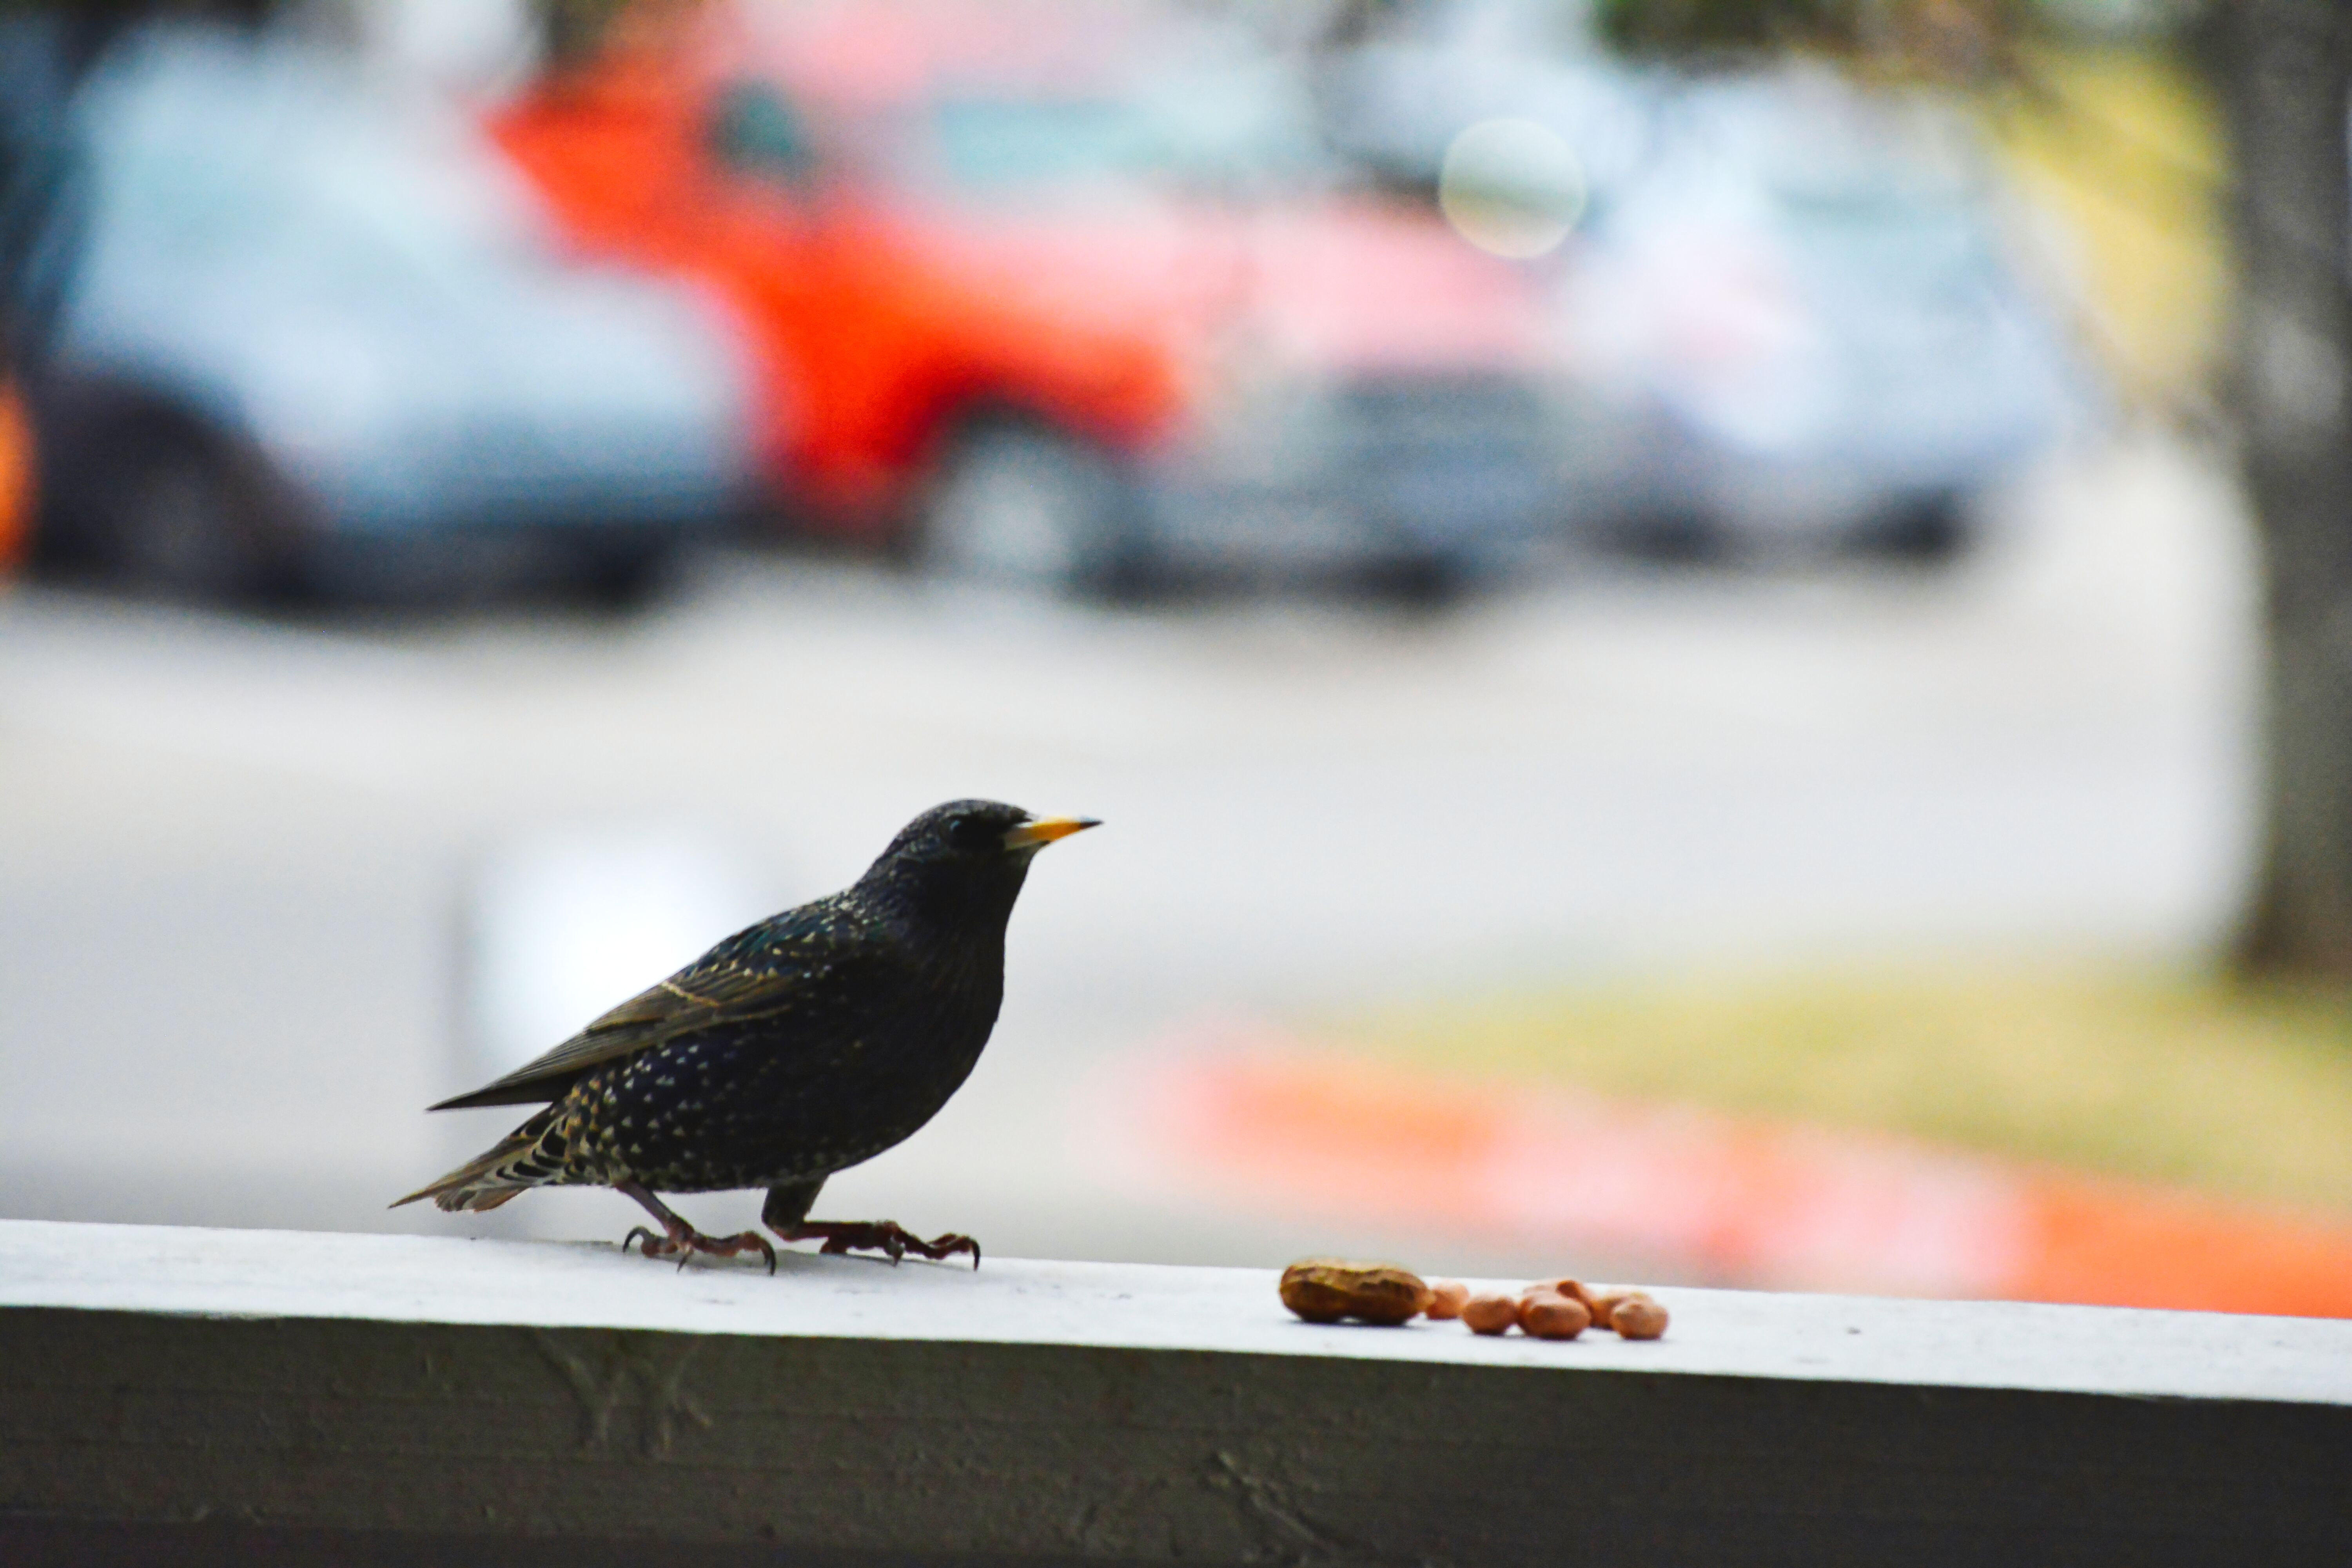bird: (383, 737, 1113, 1293)
nonbird: (1225, 1045, 1806, 1361)
